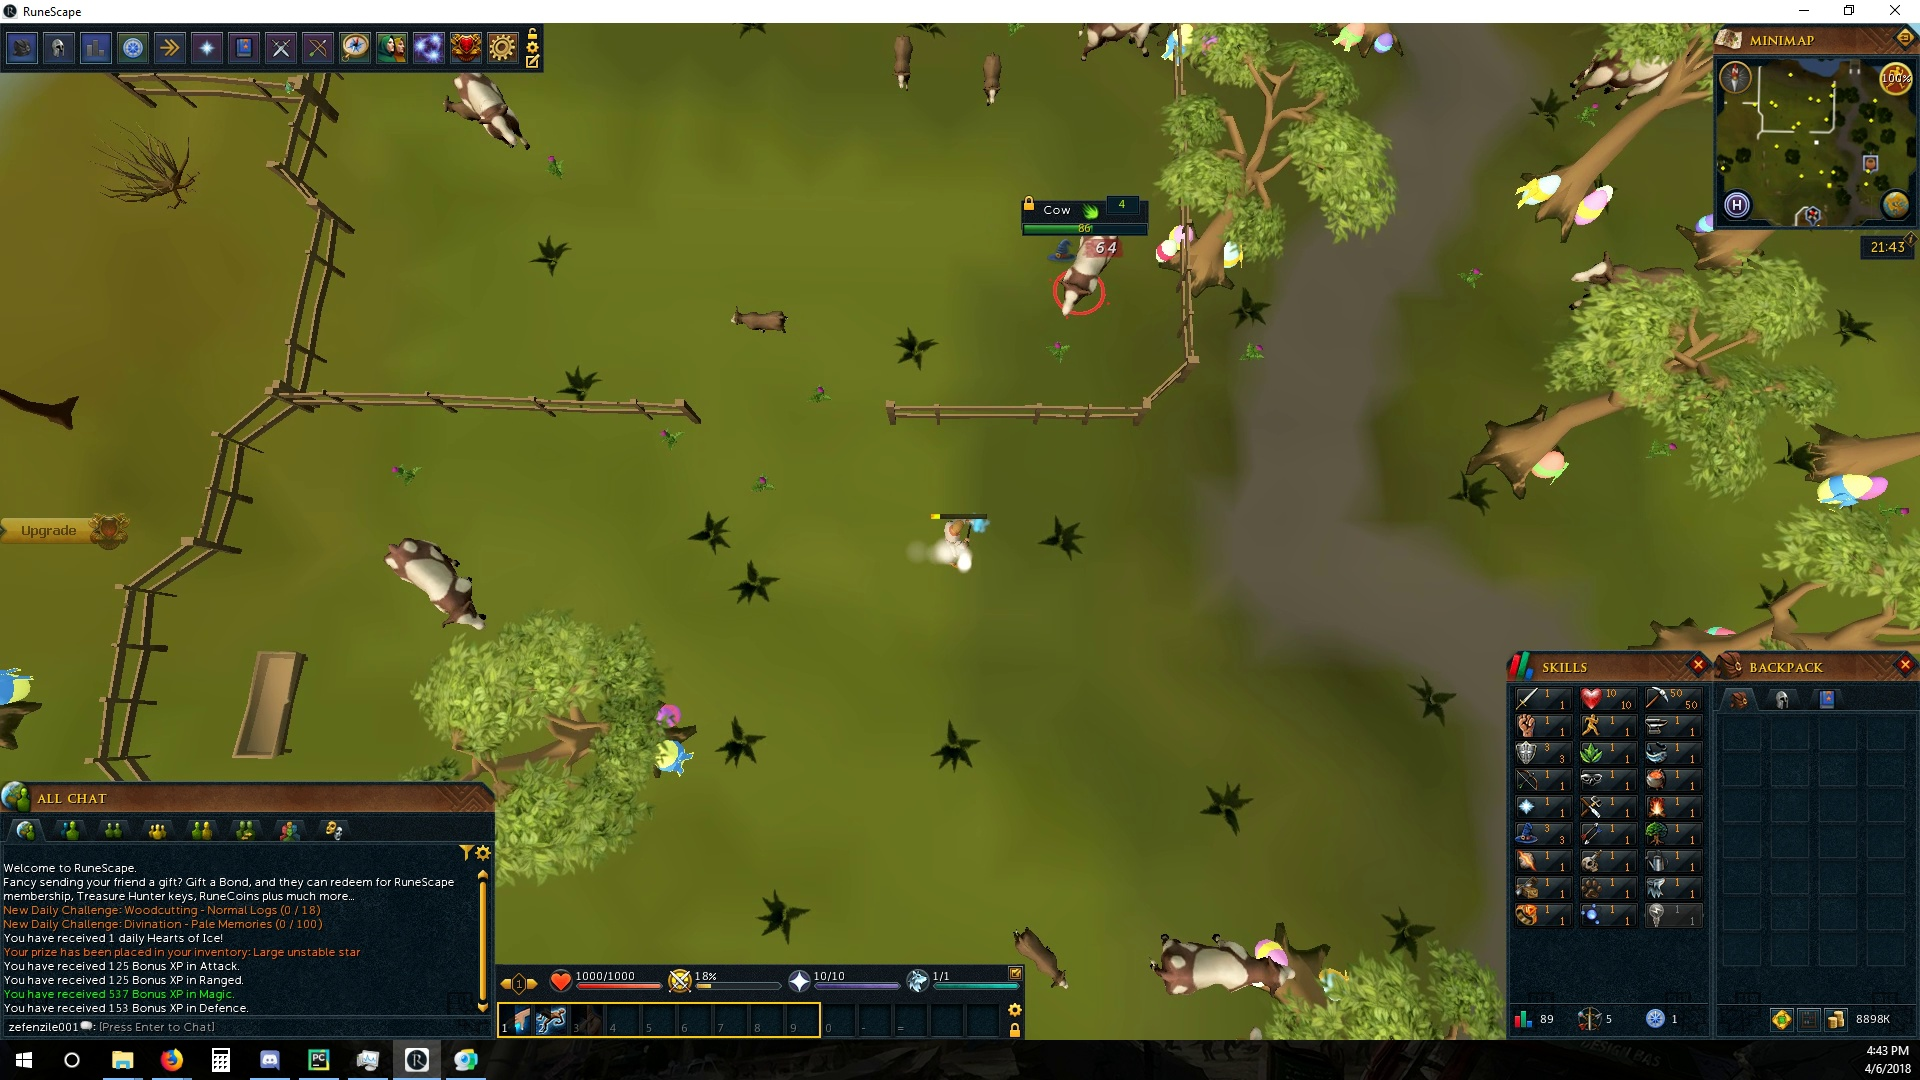calf: (1011, 924, 1073, 992), (724, 306, 790, 334), (891, 32, 915, 94), (978, 53, 1004, 109)
cow: (381, 535, 492, 636), (1145, 928, 1302, 996), (1561, 251, 1695, 306), (447, 71, 531, 156), (1567, 45, 1673, 109), (1054, 233, 1122, 319)
